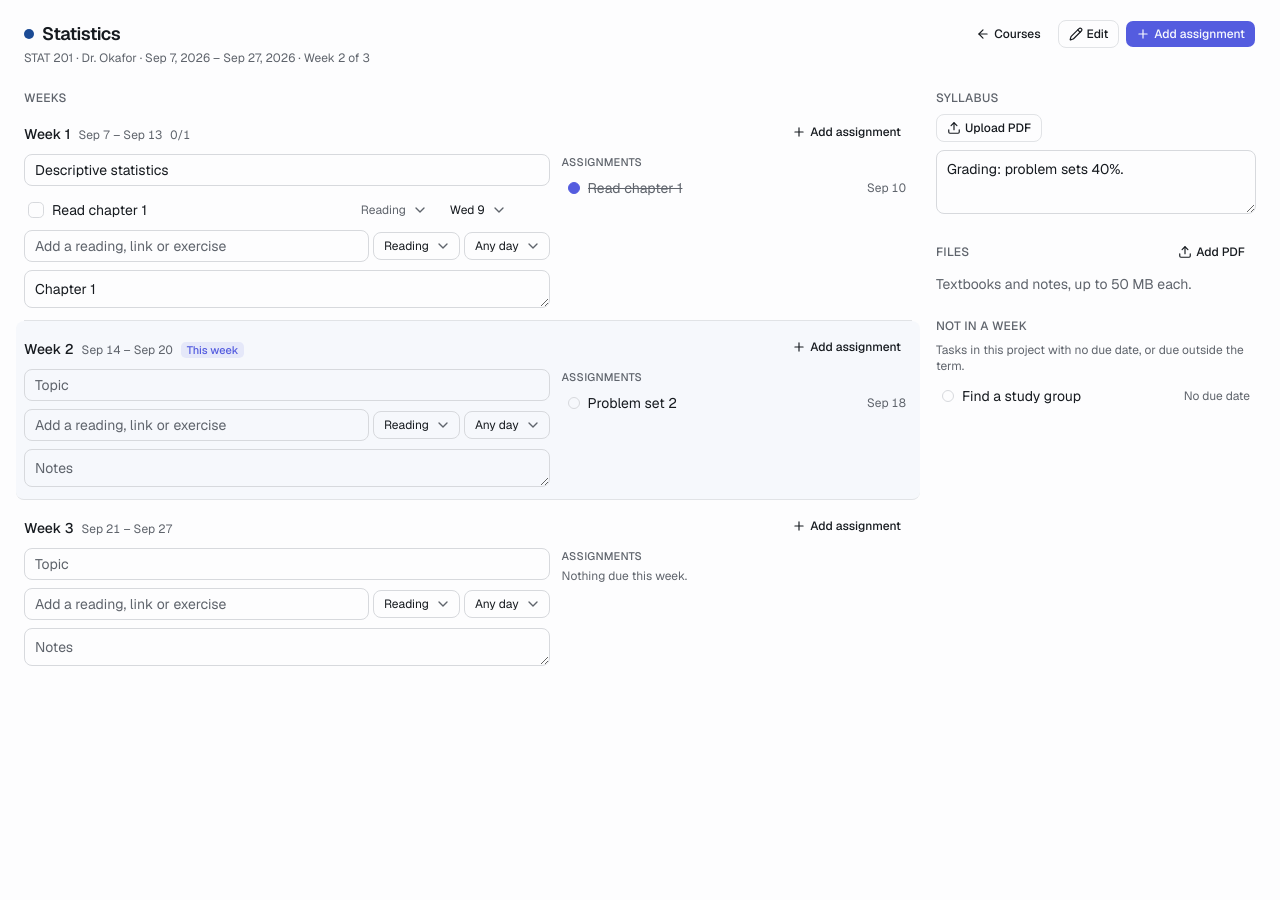
Test: the course page › saves the syllabus on blur and reports a failure with the text still shown
This screenshot has width=1280, height=900.
Replace the text in the text box named "Syllabus notes" with "Office hours Tue." at (1096, 182), box [936,150,1256,214]
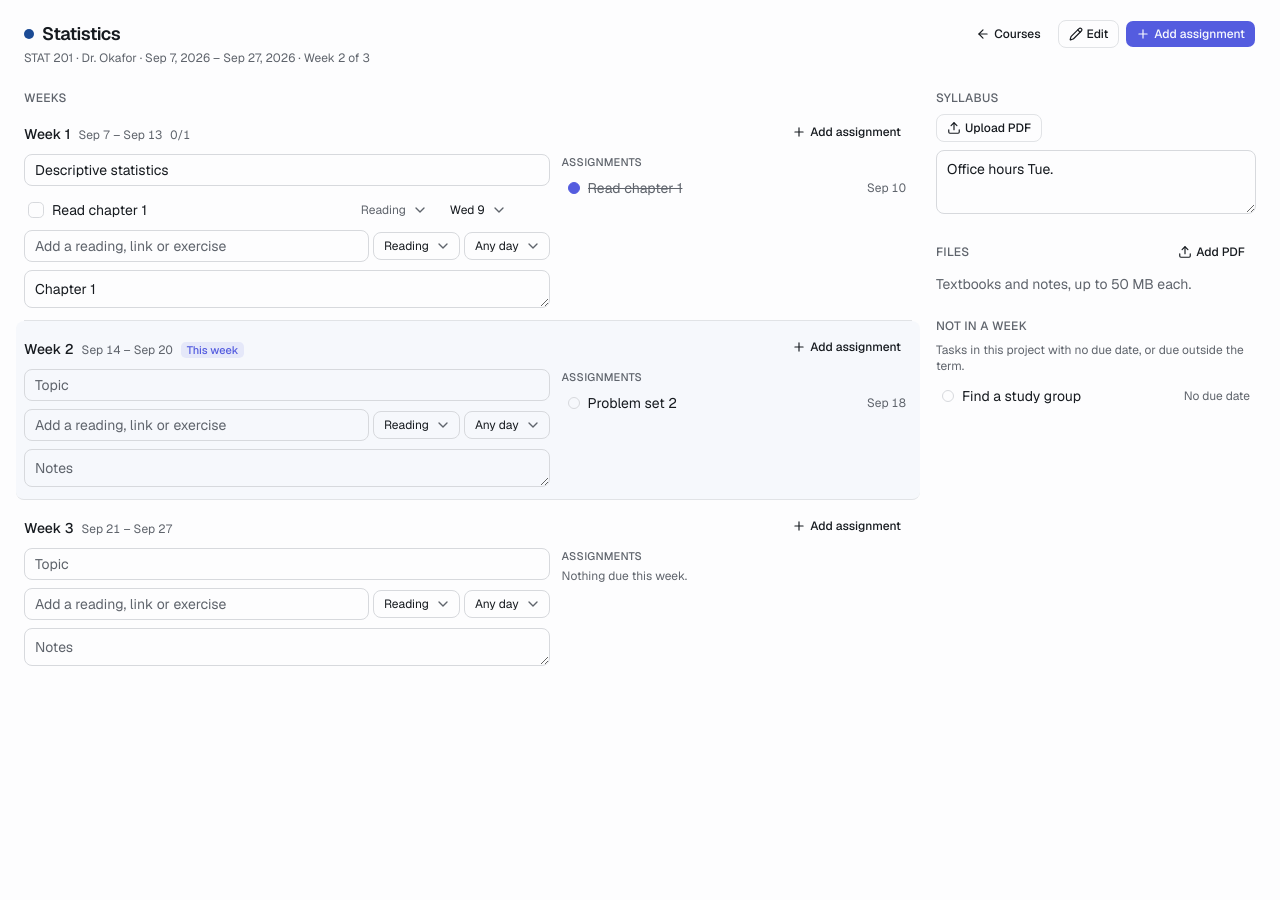
Leave the text box named "Syllabus notes", box [936,150,1256,214]
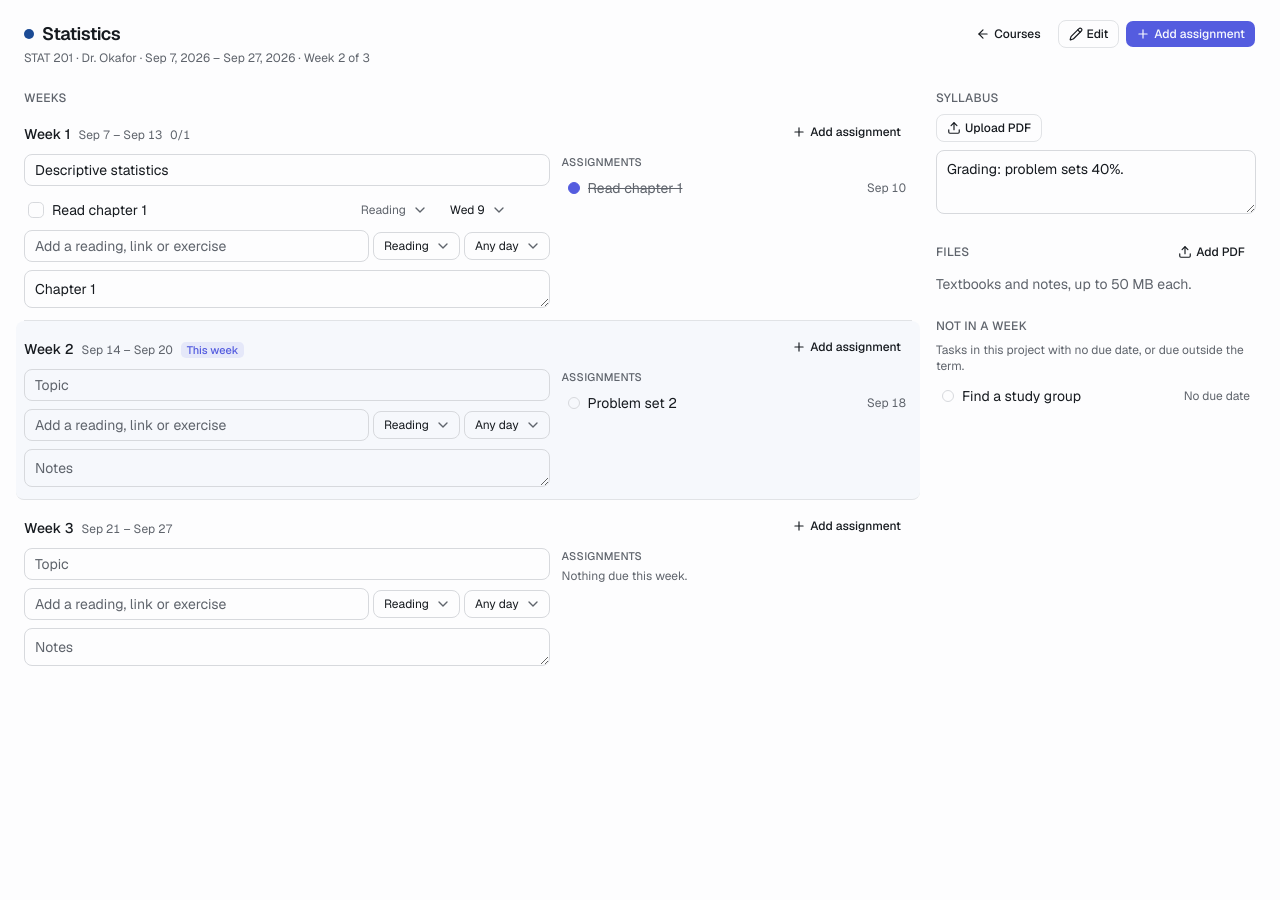
Now the text box named "Syllabus notes" holds "Grading: problem sets 40%.", box [936,150,1256,214]
